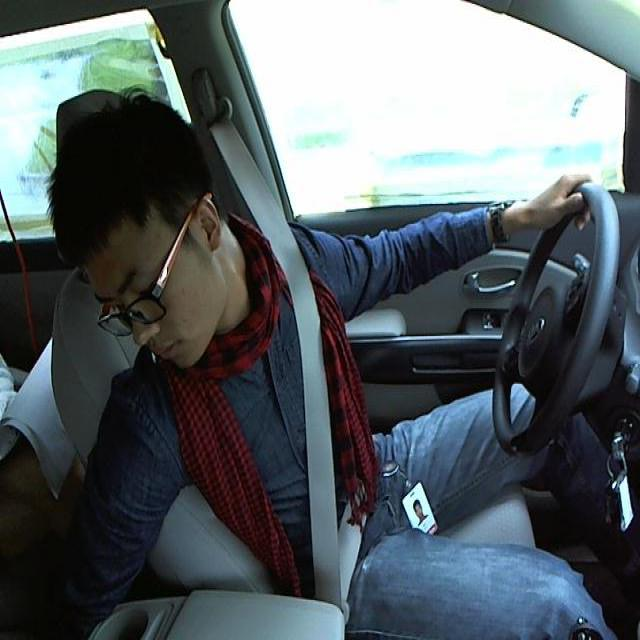seatbelt: (264, 231, 385, 596)
